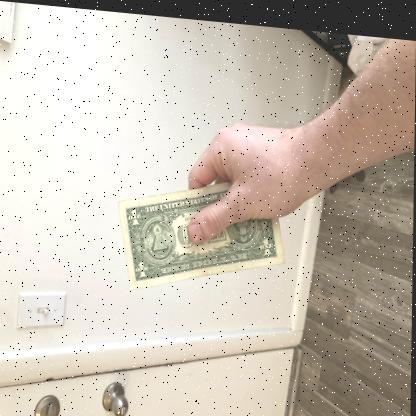one-back: (120, 171, 283, 282)
